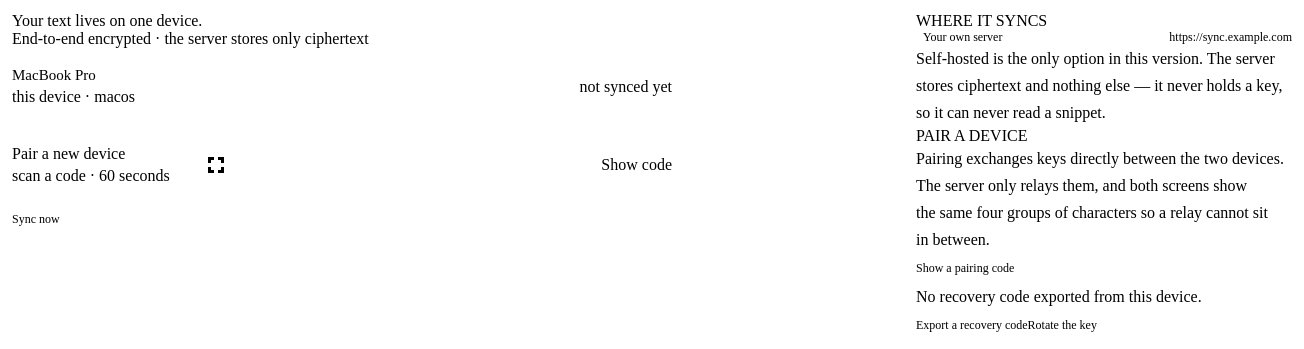
Test: Sync & devices › reports what a round did and stays calm when it could not reach the server
This screenshot has width=1304, height=349.
Click the button "Sync now": (36, 219) [12,204,60,234]
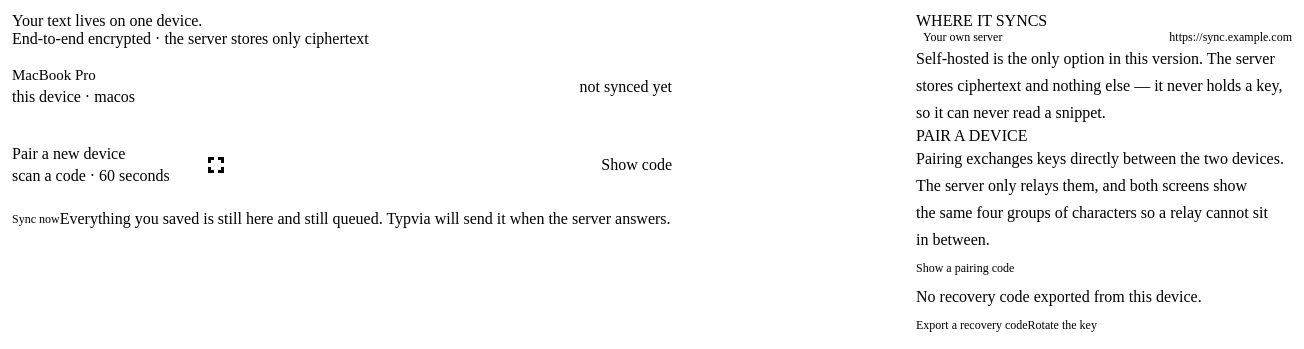
Result: the text "Everything you saved is still here and still queued" is shown at [60,210,671,227]
